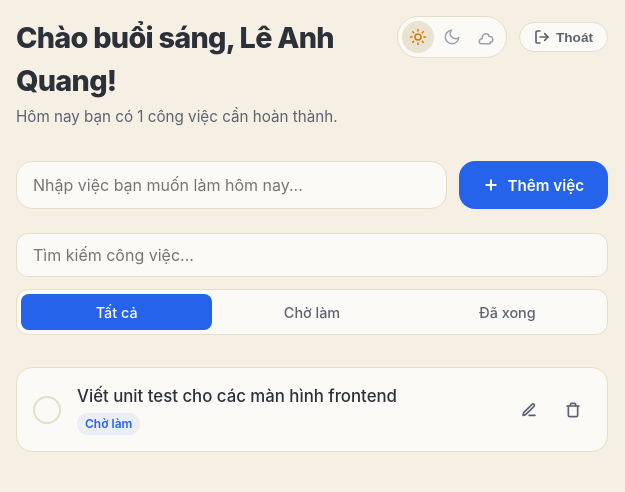
Test: Kiểm thử Giao diện & Tính năng Todo List › Cho phép người dùng đánh dấu check để hoàn thành công việc
Expected: the heading "Chào buổi sáng, Lê Anh Quang!" is shown, x1=16 y1=20 x2=334 y2=98
Click the checkbox named "Đánh dấu Viết unit test cho các màn hình frontend" at (47, 410), box x1=33 y1=396 x2=61 y2=424
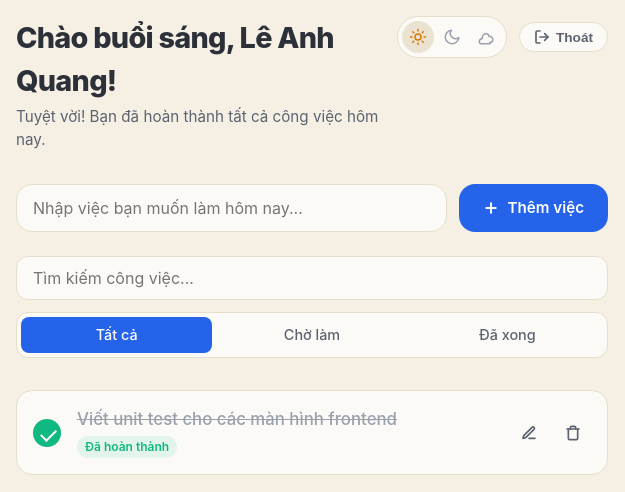
Result: the checkbox named "Đánh dấu Viết unit test cho các màn hình frontend" is checked at x1=33 y1=419 x2=61 y2=447
Result: the text "Tuyệt vời! Bạn đã hoàn thành tất cả công việc hôm nay." is shown at x1=16 y1=106 x2=397 y2=152
